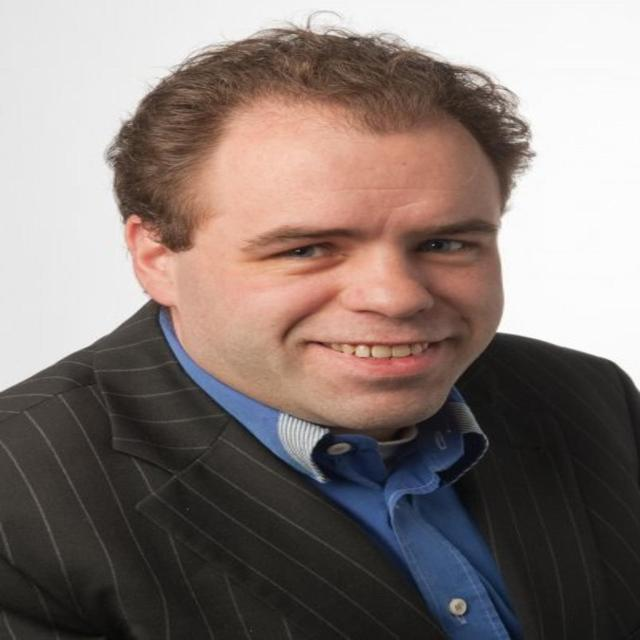Face: (148, 96, 536, 428)
